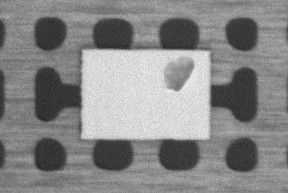DIE_INK: (161, 54, 195, 92)
